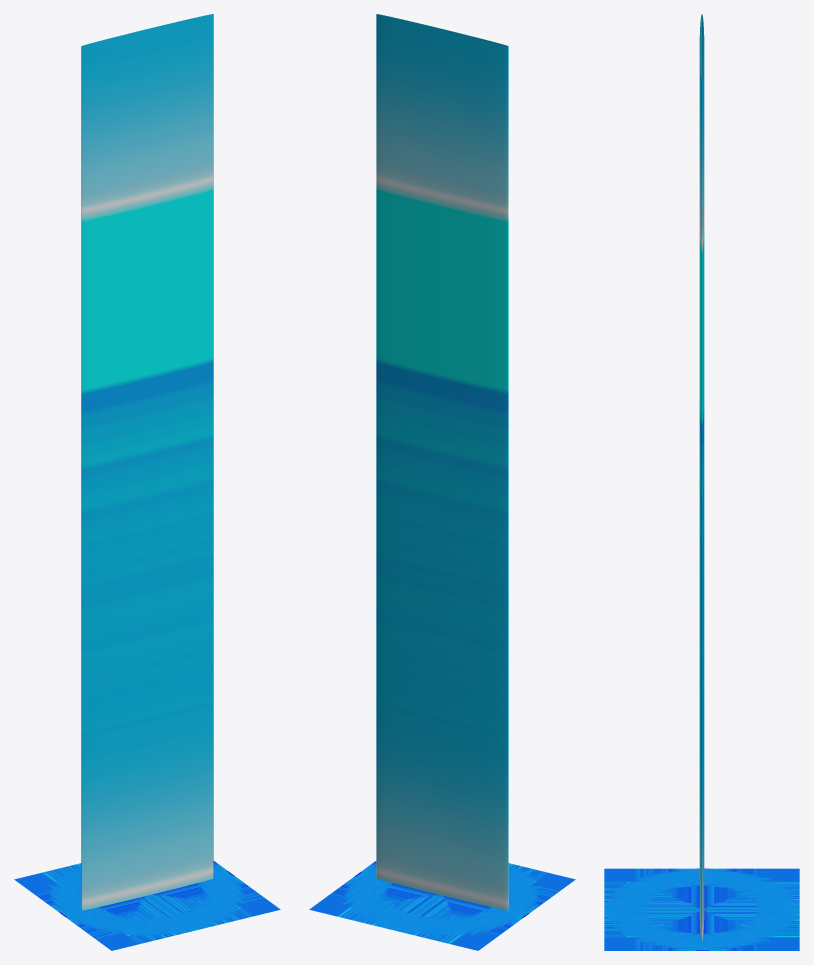
Rendered from effect_xdfw.fbx.
The picture shows the model from 3 angles, left to right: view 1: azimuth 30°, elevation 25°; view 2: azimuth 150°, elevation 25°; view 3: azimuth 270°, elevation 25°; orthographic projection.
Parts seen in each view (by area): view 1: xingdongfanwei, effect_xdfw; view 2: xingdongfanwei, effect_xdfw; view 3: effect_xdfw, xingdongfanwei.
Part boxes in pixels (x1,y1,x2,y2): xingdongfanwei: [81, 14, 213, 910]; effect_xdfw: [14, 861, 280, 950]; xingdongfanwei: [376, 14, 508, 910]; effect_xdfw: [309, 861, 575, 950]; effect_xdfw: [604, 868, 799, 950]; xingdongfanwei: [699, 14, 704, 941].
Bounding box in the file's own units: 39.6 × 193 × 39.6.
Materials: 2 (2 with a texture image).
